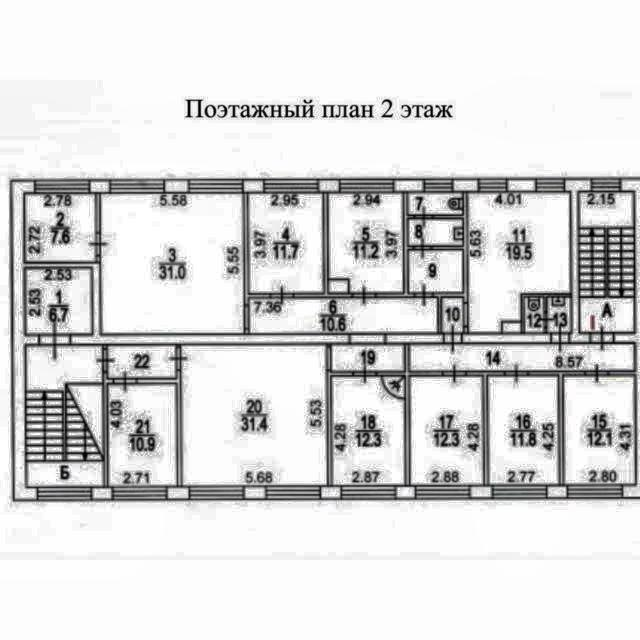room: (99, 193, 243, 332), (181, 346, 326, 483), (467, 192, 570, 333), (25, 345, 101, 485), (579, 194, 636, 334), (333, 377, 403, 485), (411, 375, 480, 482), (329, 194, 403, 292), (490, 376, 558, 482), (566, 374, 632, 482), (250, 194, 322, 293), (250, 296, 436, 334), (109, 382, 176, 483), (409, 345, 634, 370), (25, 195, 96, 261), (24, 268, 90, 334), (409, 250, 463, 293), (106, 346, 176, 377), (331, 345, 405, 370), (408, 218, 462, 245), (408, 192, 463, 214), (441, 296, 462, 332), (548, 298, 570, 331), (525, 297, 543, 332)
